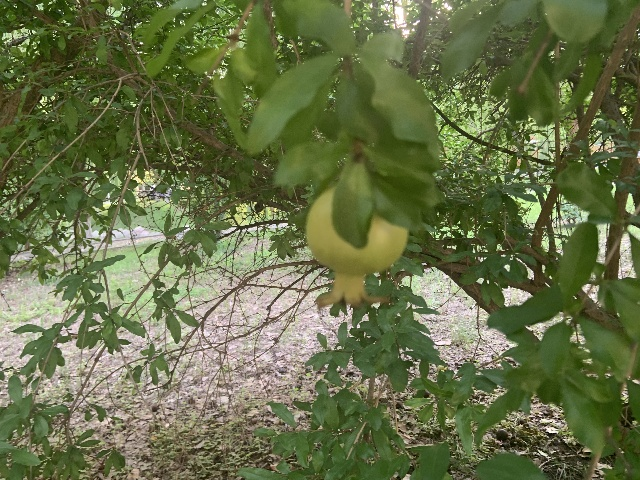mid-growth: (305, 186, 409, 309)
